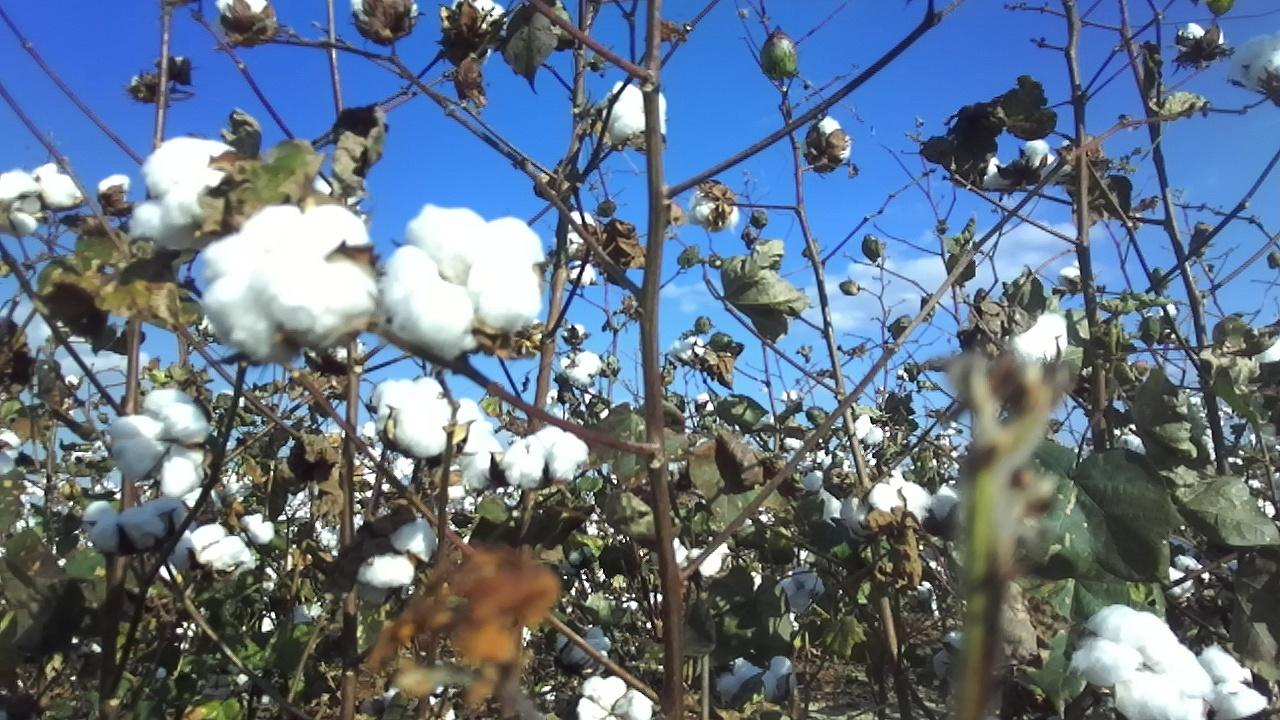cotton_ready: (198, 205, 377, 364), (380, 204, 549, 359), (1069, 605, 1209, 720), (128, 134, 245, 253), (109, 385, 211, 499), (372, 377, 461, 462), (0, 164, 87, 235), (359, 517, 440, 589), (1200, 639, 1272, 720), (996, 305, 1075, 378), (84, 500, 187, 554), (501, 426, 589, 489), (192, 510, 279, 573), (597, 79, 670, 146), (454, 398, 505, 492), (842, 481, 928, 534), (978, 134, 1057, 190), (712, 655, 795, 707), (576, 677, 657, 720), (555, 621, 612, 675), (1232, 30, 1280, 88), (808, 114, 854, 163), (925, 482, 965, 537)
